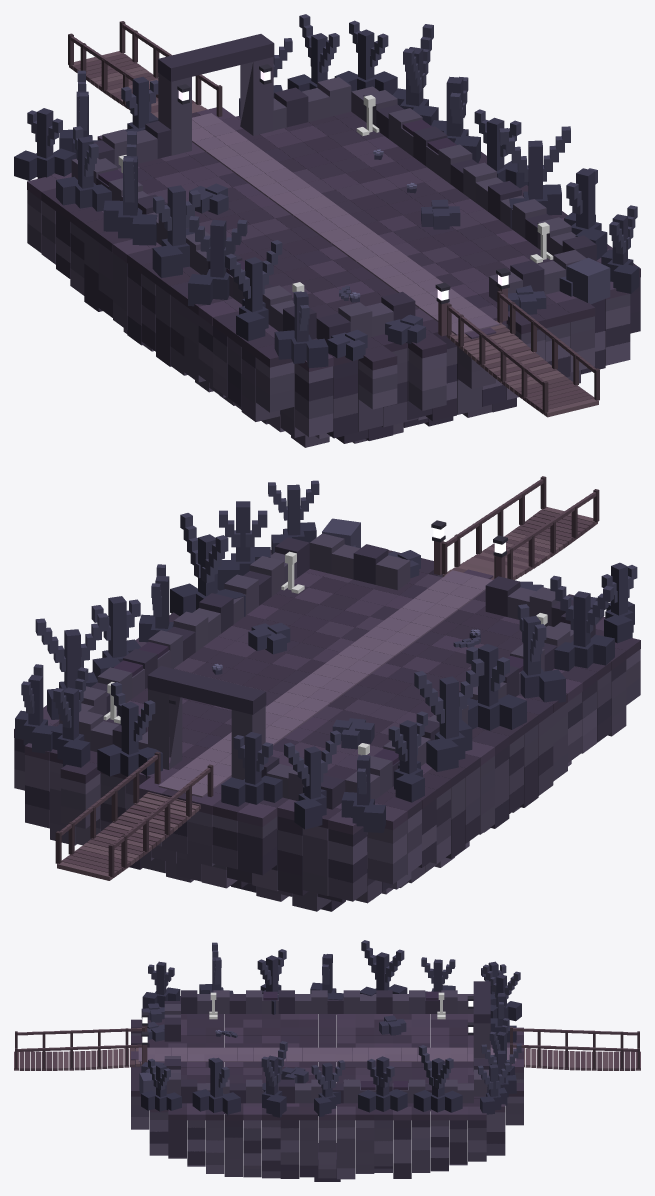
File: room_empty_polluted.glb
3 views of the same model, one above another, from view 1: azimuth 30°, elevation 25°; view 2: azimuth 150°, elevation 25°; view 3: azimuth 270°, elevation 25° (orthographic). The views are drawn at different scales.
Parts seen in each view (by area): view 1: room_empty_blocks, tree4_(0, 0).001, tree0_(0, 0).002, tree5_(0, 0).001, tree2_(0, 0).001, tree2_(0, 0).002, tree0_(0, 0).003, tree4_(0, 0).002, tree0_(0, 0).001, tree5_(0, 0).002, tree3_(0, 0).001, tree1_(0, 0).003 (+12 smaller); view 2: room_empty_blocks, tree2_(0, 0).002, tree2_(0, 0).001, tree0_(0, 0).002, tree5_(0, 0).001, tree5_(0, 0).003, tree0_(0, 0).004, tree2_(0, 0).003, tree5_(0, 0).002, tree4_(0, 0).001, tree3_(0, 0).001, tree2_(0, 0).004 (+10 smaller); view 3: room_empty_blocks, tree5_(0, 0).002, tree3_(0, 0).002, tree3_(0, 0).001, tree5_(0, 0).001, tree2_(0, 0).002, tree1_(0, 0).001, tree1_(0, 0).002, tree1_(0, 0).003, tree0_(0, 0).001, tree2_(0, 0).003, tree4_(0, 0).001 (+9 smaller).
Part boxes in pixels (box(x1,y1,x2,y2)): room_empty_blocks: box(27, 21, 640, 447); tree4_(0, 0).001: box(188, 216, 247, 306); tree0_(0, 0).002: box(152, 185, 200, 277); tree5_(0, 0).001: box(499, 126, 570, 228); tree2_(0, 0).001: box(225, 240, 282, 341); tree2_(0, 0).002: box(103, 131, 157, 245); tree0_(0, 0).003: box(14, 108, 76, 180); tree4_(0, 0).002: box(56, 126, 111, 211); tree0_(0, 0).001: box(274, 291, 328, 368); tree5_(0, 0).002: box(393, 24, 438, 125); tree3_(0, 0).001: box(564, 168, 607, 260); tree1_(0, 0).003: box(334, 20, 397, 94); room_empty_blocks: box(14, 476, 640, 911); tree2_(0, 0).002: box(414, 658, 484, 771); tree2_(0, 0).001: box(550, 575, 614, 671); tree0_(0, 0).002: box(466, 644, 526, 730); tree5_(0, 0).001: box(170, 513, 245, 616); tree5_(0, 0).003: box(97, 682, 162, 778); tree0_(0, 0).004: box(221, 732, 282, 806); tree2_(0, 0).003: box(284, 730, 340, 829); tree5_(0, 0).002: box(35, 613, 107, 719); tree4_(0, 0).001: box(517, 604, 565, 702); tree3_(0, 0).001: box(217, 501, 270, 590); tree2_(0, 0).004: box(51, 667, 90, 767); room_empty_blocks: box(14, 981, 640, 1181); tree5_(0, 0).002: box(413, 1045, 462, 1112); tree3_(0, 0).002: box(358, 1056, 407, 1112); tree3_(0, 0).001: box(192, 1057, 240, 1116); tree5_(0, 0).001: box(261, 1041, 287, 1117); tree2_(0, 0).002: box(360, 940, 407, 995); tree1_(0, 0).001: box(141, 1058, 181, 1111); tree1_(0, 0).002: box(311, 1060, 345, 1116); tree1_(0, 0).003: box(478, 1063, 510, 1114); tree0_(0, 0).001: box(142, 961, 180, 1008); tree2_(0, 0).003: box(483, 964, 521, 1021); tree4_(0, 0).001: box(257, 949, 286, 1014).
Bounding box in the file's own units: 17.93 × 12.1 × 38.5.
